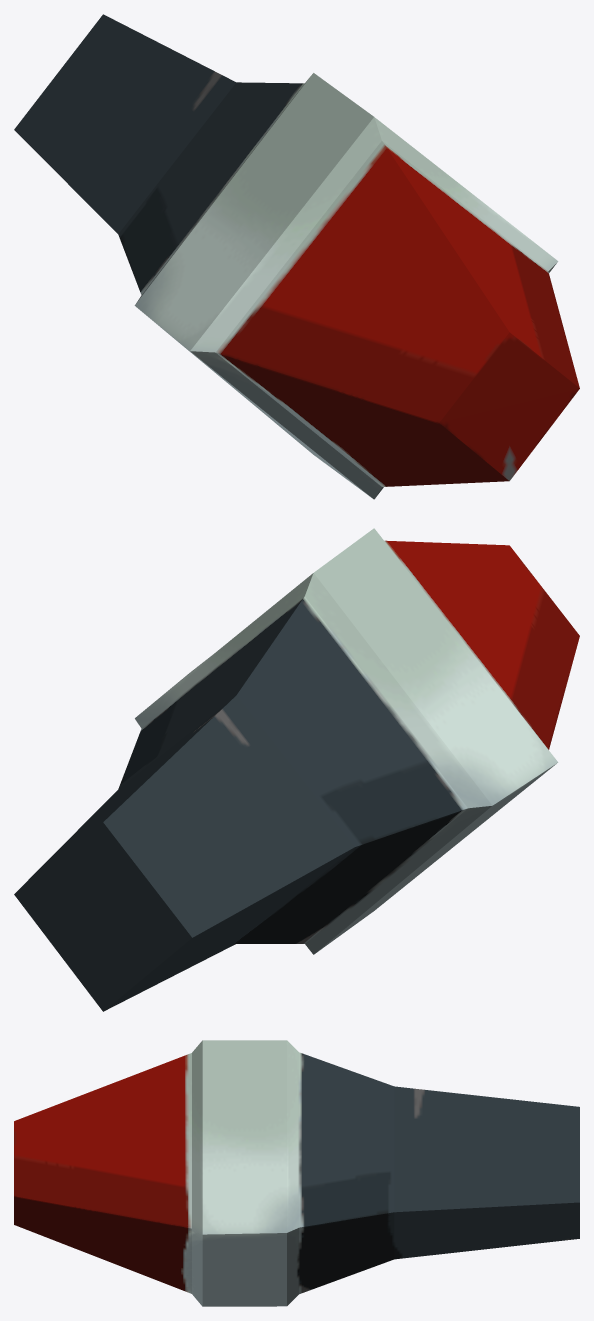
The model's file is Dice_Posu_wepon.fbx.
3 renders of one model, top to bottom at view 1: azimuth 30°, elevation 25°; view 2: azimuth 150°, elevation 25°; view 3: azimuth 270°, elevation 25°, orthographic. The views are drawn at different scales.
Parts seen in each view (by area): view 1: Object001; view 2: Object001; view 3: Object001.
Part boxes in pixels (x1,y1,x2,y2): Object001: (14, 14, 579, 499); Object001: (14, 528, 579, 1011); Object001: (14, 1040, 579, 1306).
Bounding box in the file's own units: 24.28 × 24.12 × 46.42.
